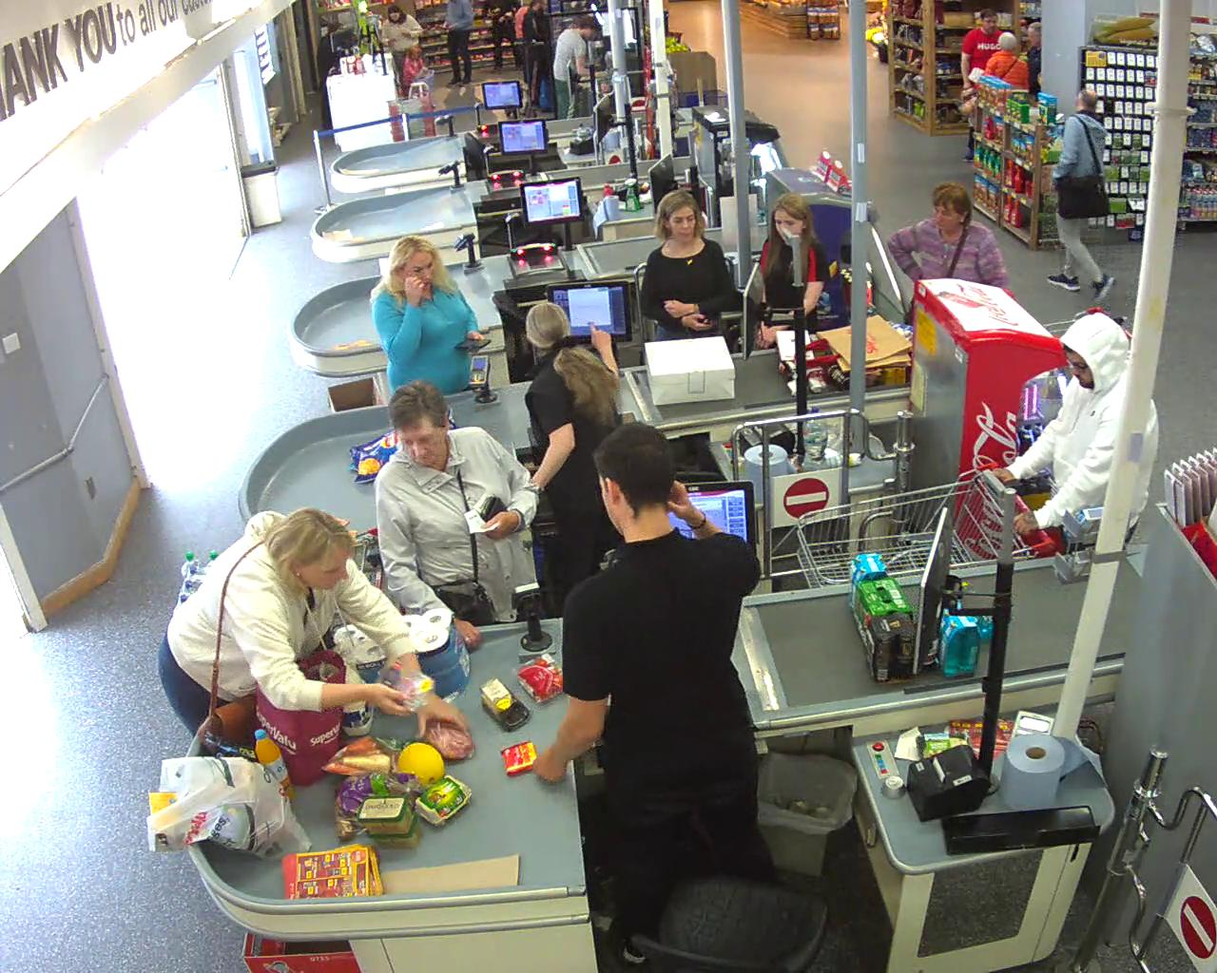backpack-or-handbag: (1055, 172, 1113, 220)
occupied-checkout-counter: (513, 483, 816, 973), (467, 277, 640, 506)
person: (1047, 89, 1117, 303)
person-with-backpack-handbag: (1047, 88, 1117, 302)
vacant-checkout-counter: (456, 175, 585, 340), (439, 118, 551, 229), (433, 80, 523, 156)
